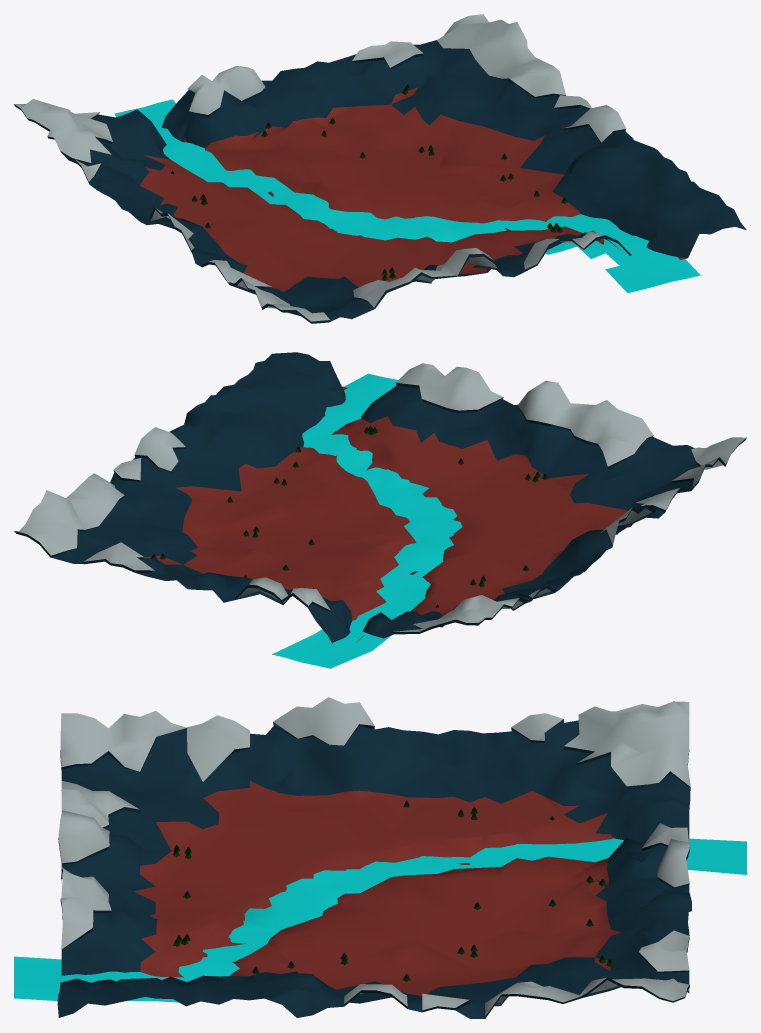
The model's file is enviroment_small.dae.
The picture shows the model from 3 angles, top to bottom: view 1: azimuth 30°, elevation 25°; view 2: azimuth 150°, elevation 25°; view 3: azimuth 270°, elevation 25°; orthographic projection. The views are drawn at different scales.
Visible parts, largest first — view 1: pPlane1, pPlane3; view 2: pPlane1, pPlane3; view 3: pPlane1, pPlane3.
Boxes of the visible parts, x1,y1,x2,y2 form: pPlane1: [14, 14, 746, 323]; pPlane3: [114, 99, 700, 293]; pPlane1: [14, 352, 746, 644]; pPlane3: [272, 373, 462, 668]; pPlane1: [57, 697, 691, 1018]; pPlane3: [14, 838, 746, 1002].
Size of the model in its own units: 406 by 72.95 by 467.
